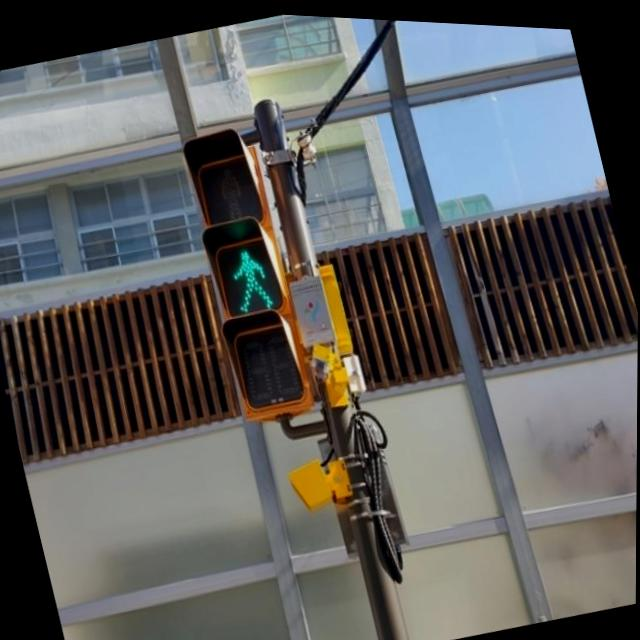green_light: (213, 232, 284, 317)
